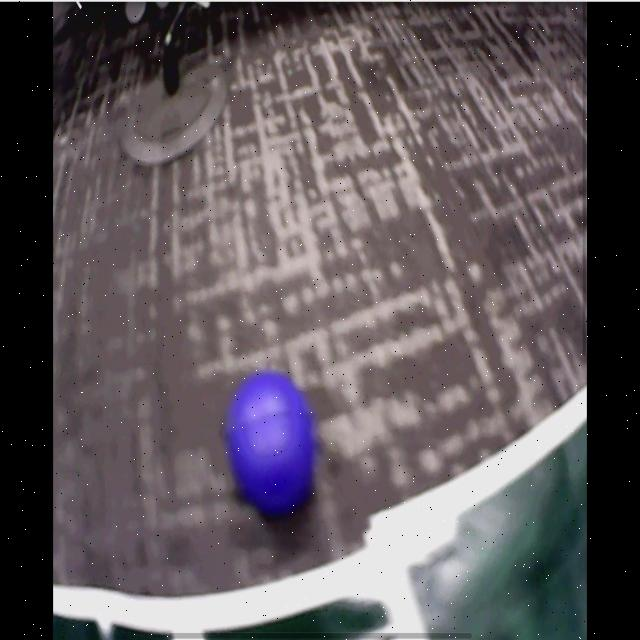ball: (229, 370, 316, 514)
